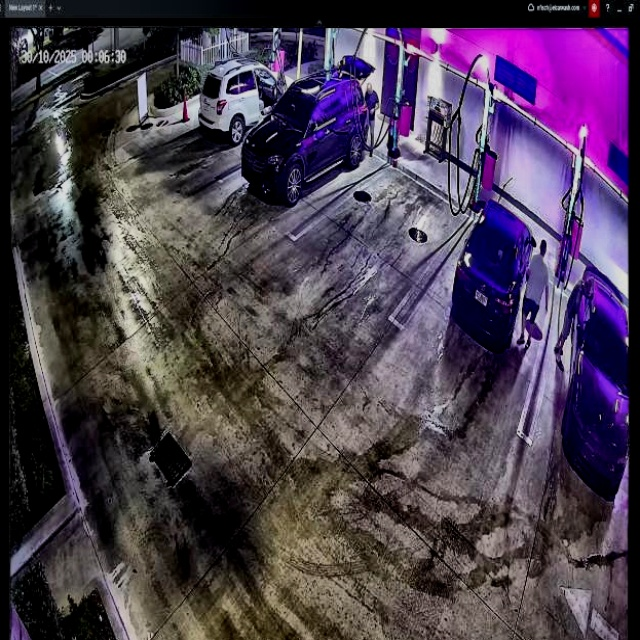Car: (241, 55, 370, 199), (454, 198, 536, 349)
